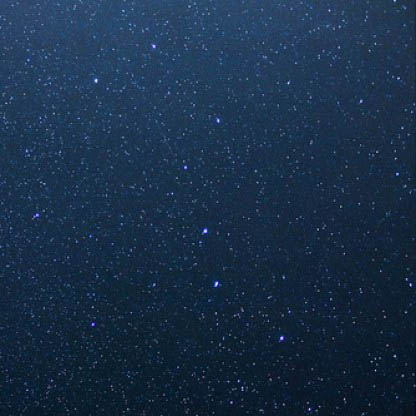Ursa Major: (84, 71, 111, 99), (192, 221, 215, 245), (173, 154, 195, 179), (205, 268, 224, 294), (208, 105, 227, 130), (139, 39, 165, 57), (273, 327, 290, 348)
